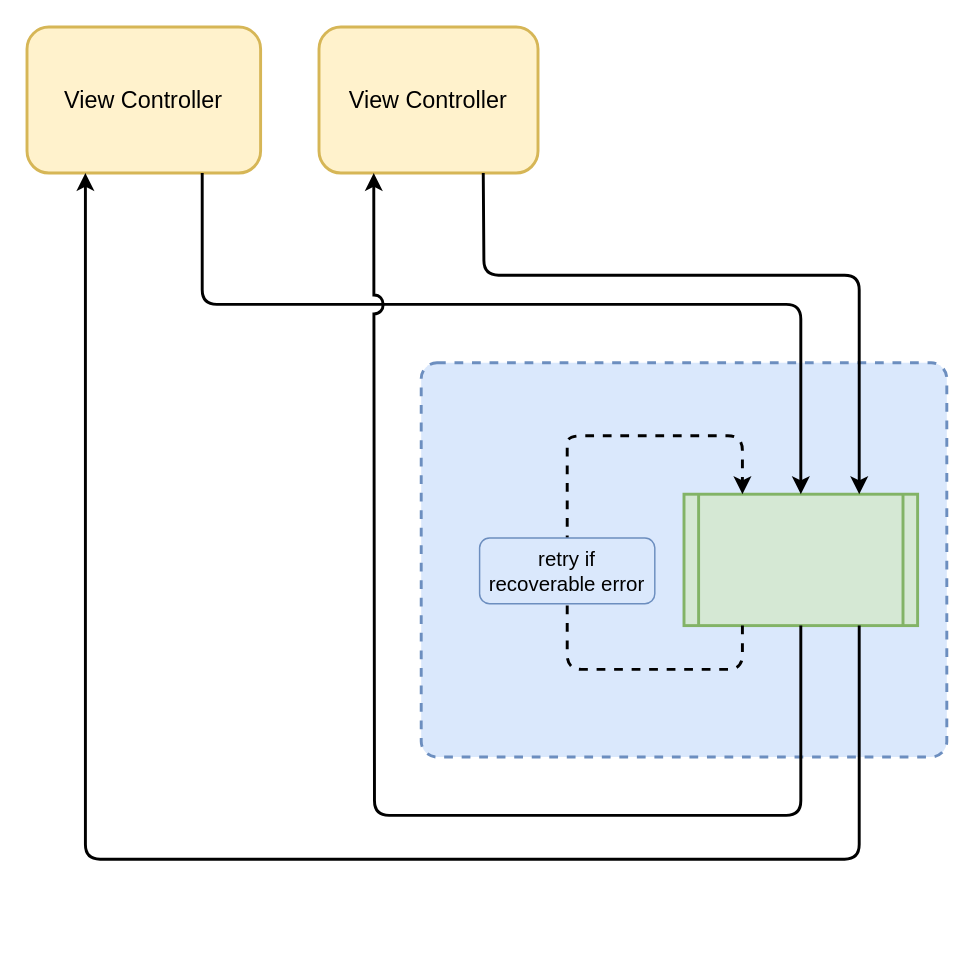
The diagram is 972 pixels wide and 955 high, and some of its shapes have lost their labels. Here are the shapes that lost their labels. From the top down, the box of each, then its label:
(419, 361, 948, 758): TaskManager
(682, 492, 918, 626): Operation
